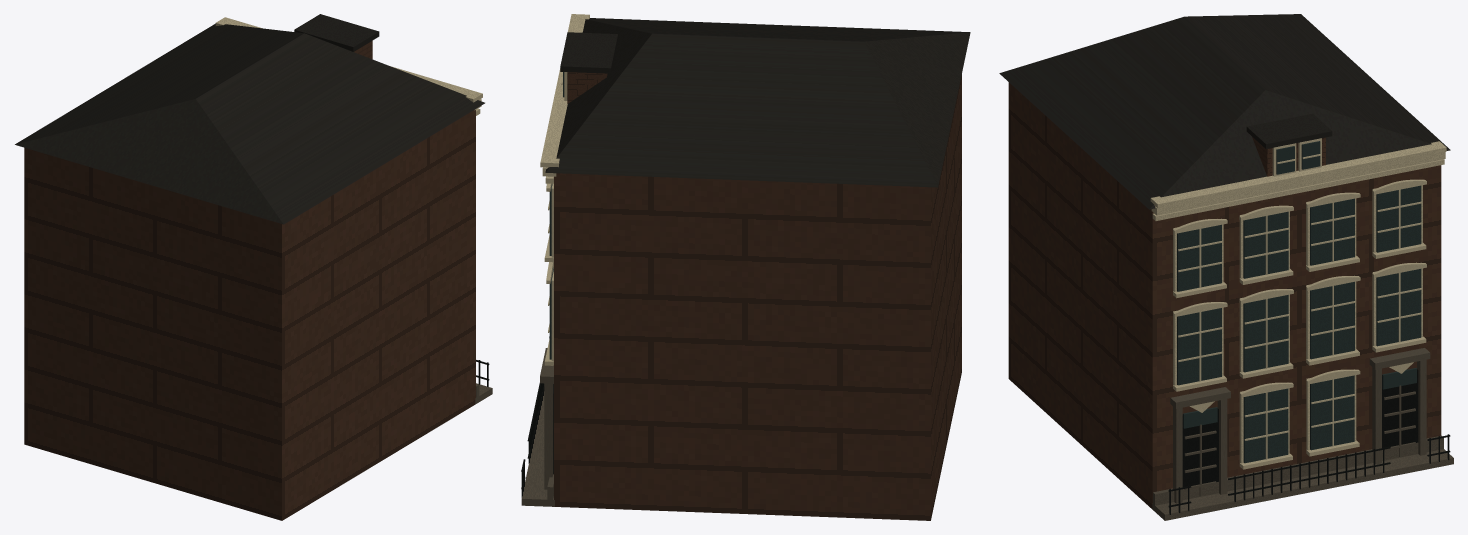
3 renders of one model, left to right at view 1: azimuth 30°, elevation 25°; view 2: azimuth 150°, elevation 25°; view 3: azimuth 270°, elevation 25°, orthographic. The views are drawn at different scales.
Parts seen in each view (by area): view 1: pastorie-rosalia-0, pastorie-rosalia-1, pastorie-rosalia-2; view 2: pastorie-rosalia-0, pastorie-rosalia-1, pastorie-rosalia-4, pastorie-rosalia-2, pastorie-rosalia-5; view 3: pastorie-rosalia-0, pastorie-rosalia-1, pastorie-rosalia-3, pastorie-rosalia-2, pastorie-rosalia-4, pastorie-rosalia-5.
Boxes of the visible parts, x1,y1,x2,y2 form: pastorie-rosalia-0: (24, 40, 475, 520); pastorie-rosalia-1: (15, 14, 484, 224); pastorie-rosalia-2: (215, 17, 482, 115); pastorie-rosalia-0: (554, 72, 961, 520); pastorie-rosalia-1: (545, 18, 970, 187); pastorie-rosalia-4: (521, 348, 554, 506); pastorie-rosalia-2: (540, 14, 589, 365); pastorie-rosalia-5: (521, 336, 553, 497); pastorie-rosalia-0: (1008, 82, 1441, 508); pastorie-rosalia-1: (999, 14, 1450, 209); pastorie-rosalia-3: (1177, 141, 1421, 463); pastorie-rosalia-2: (1150, 138, 1446, 469); pastorie-rosalia-4: (1152, 348, 1453, 520); pastorie-rosalia-5: (1168, 369, 1450, 514).
Bounding box in the file's own units: 16.74 × 13.95 × 15.86.
Materials: 6 (6 with a texture image).
